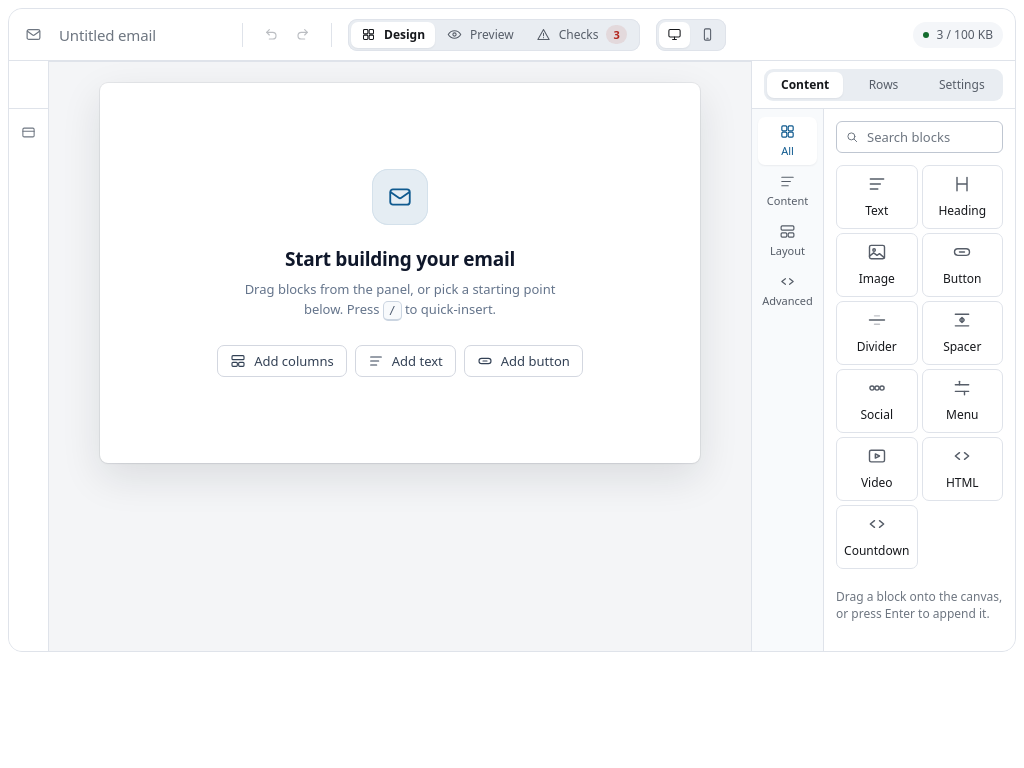
Scenario: consumer configuration › registers a custom block and offers it in the palette
This screenshot has width=1024, height=768.
Click the button titled "Advanced": [788, 291] box [758, 267, 817, 315]
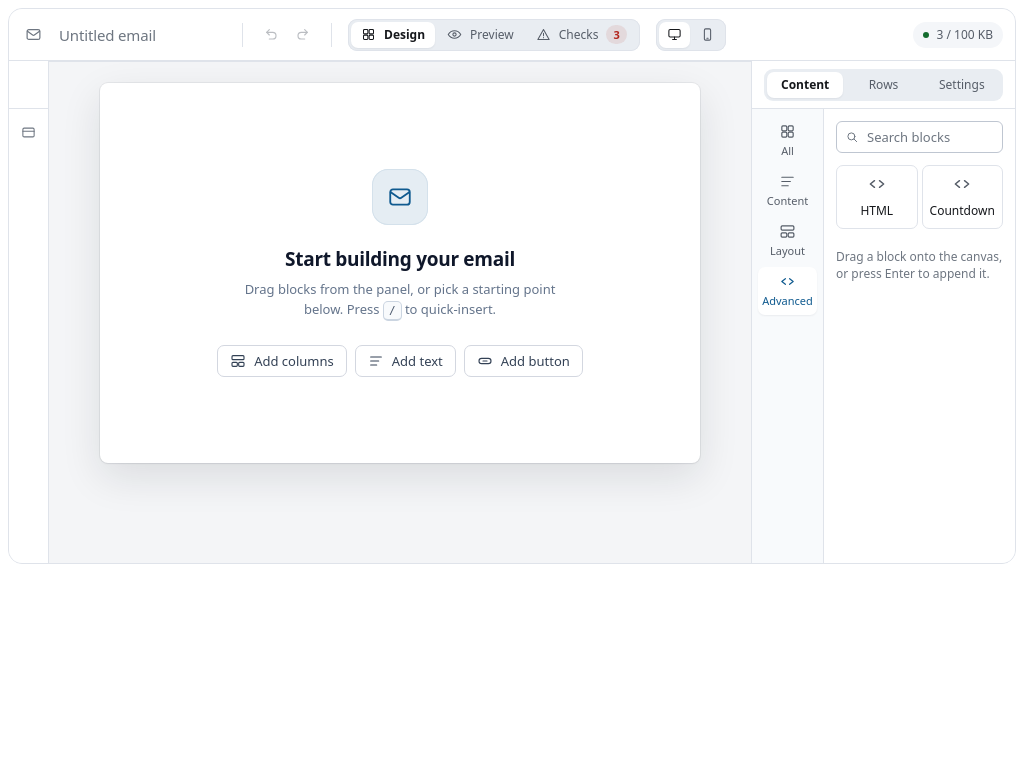
Click the button "Countdown": [962, 197] box [922, 165, 1003, 229]
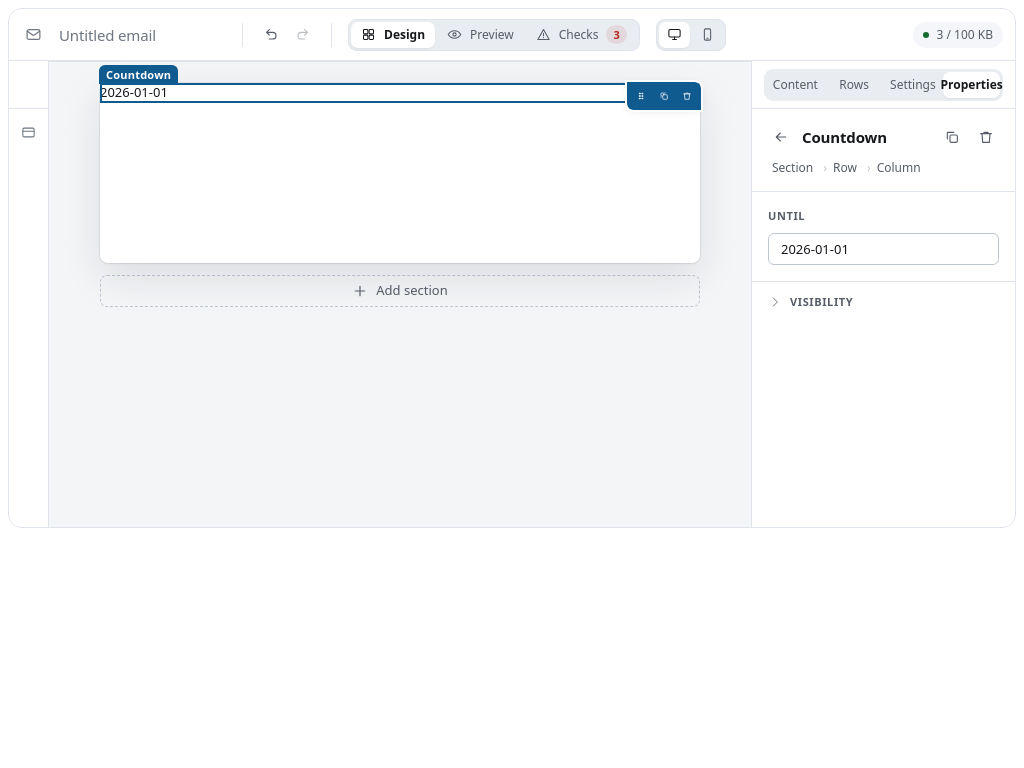
expect the field labelled "Until" is shown: met, box [768, 232, 999, 264]
